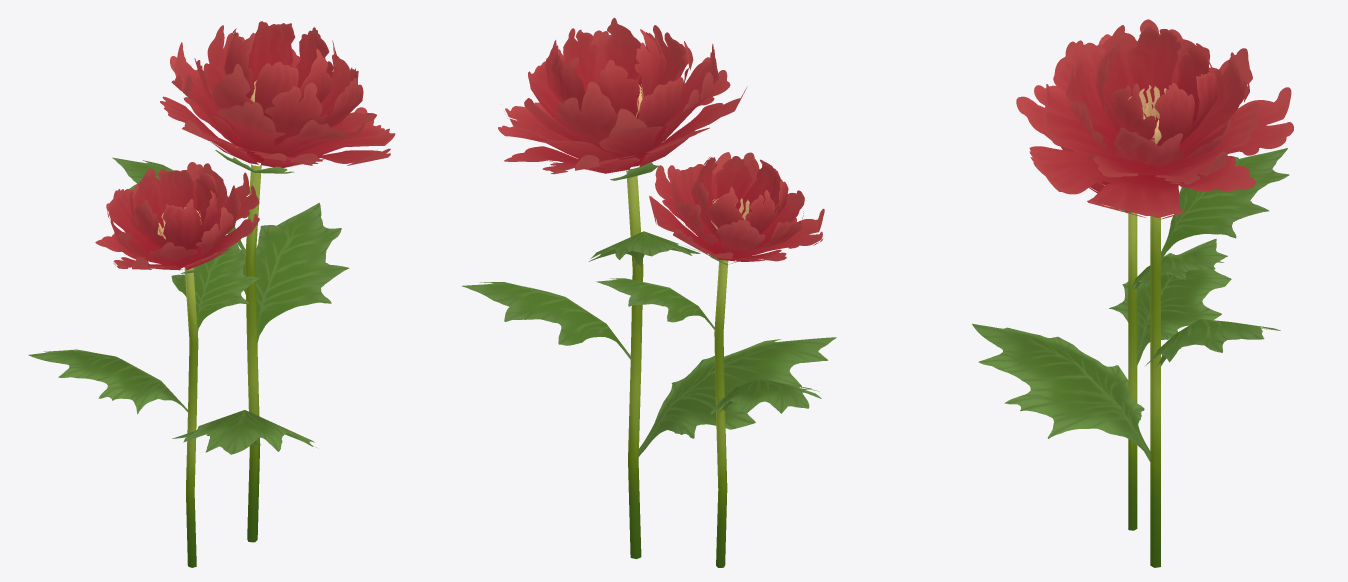
3 views of the same model, side by side, from view 1: azimuth 30°, elevation 25°; view 2: azimuth 150°, elevation 25°; view 3: azimuth 270°, elevation 25° (orthographic). The views are drawn at different scales.
Parts seen in each view (by area): view 1: chinese_rose, chinese_rose_small; view 2: chinese_rose, chinese_rose_small; view 3: chinese_rose, chinese_rose_small.
Part boxes in pixels (x1,y1,x2,y2): chinese_rose: (112,21,395,542); chinese_rose_small: (28,162,259,567); chinese_rose: (461,17,836,559); chinese_rose_small: (596,152,824,567); chinese_rose: (972,19,1293,567); chinese_rose_small: (1060,146,1231,530).
Size of the model in its own units: 2.18 by 2.73 by 1.93.
1 material, 1 textured.
